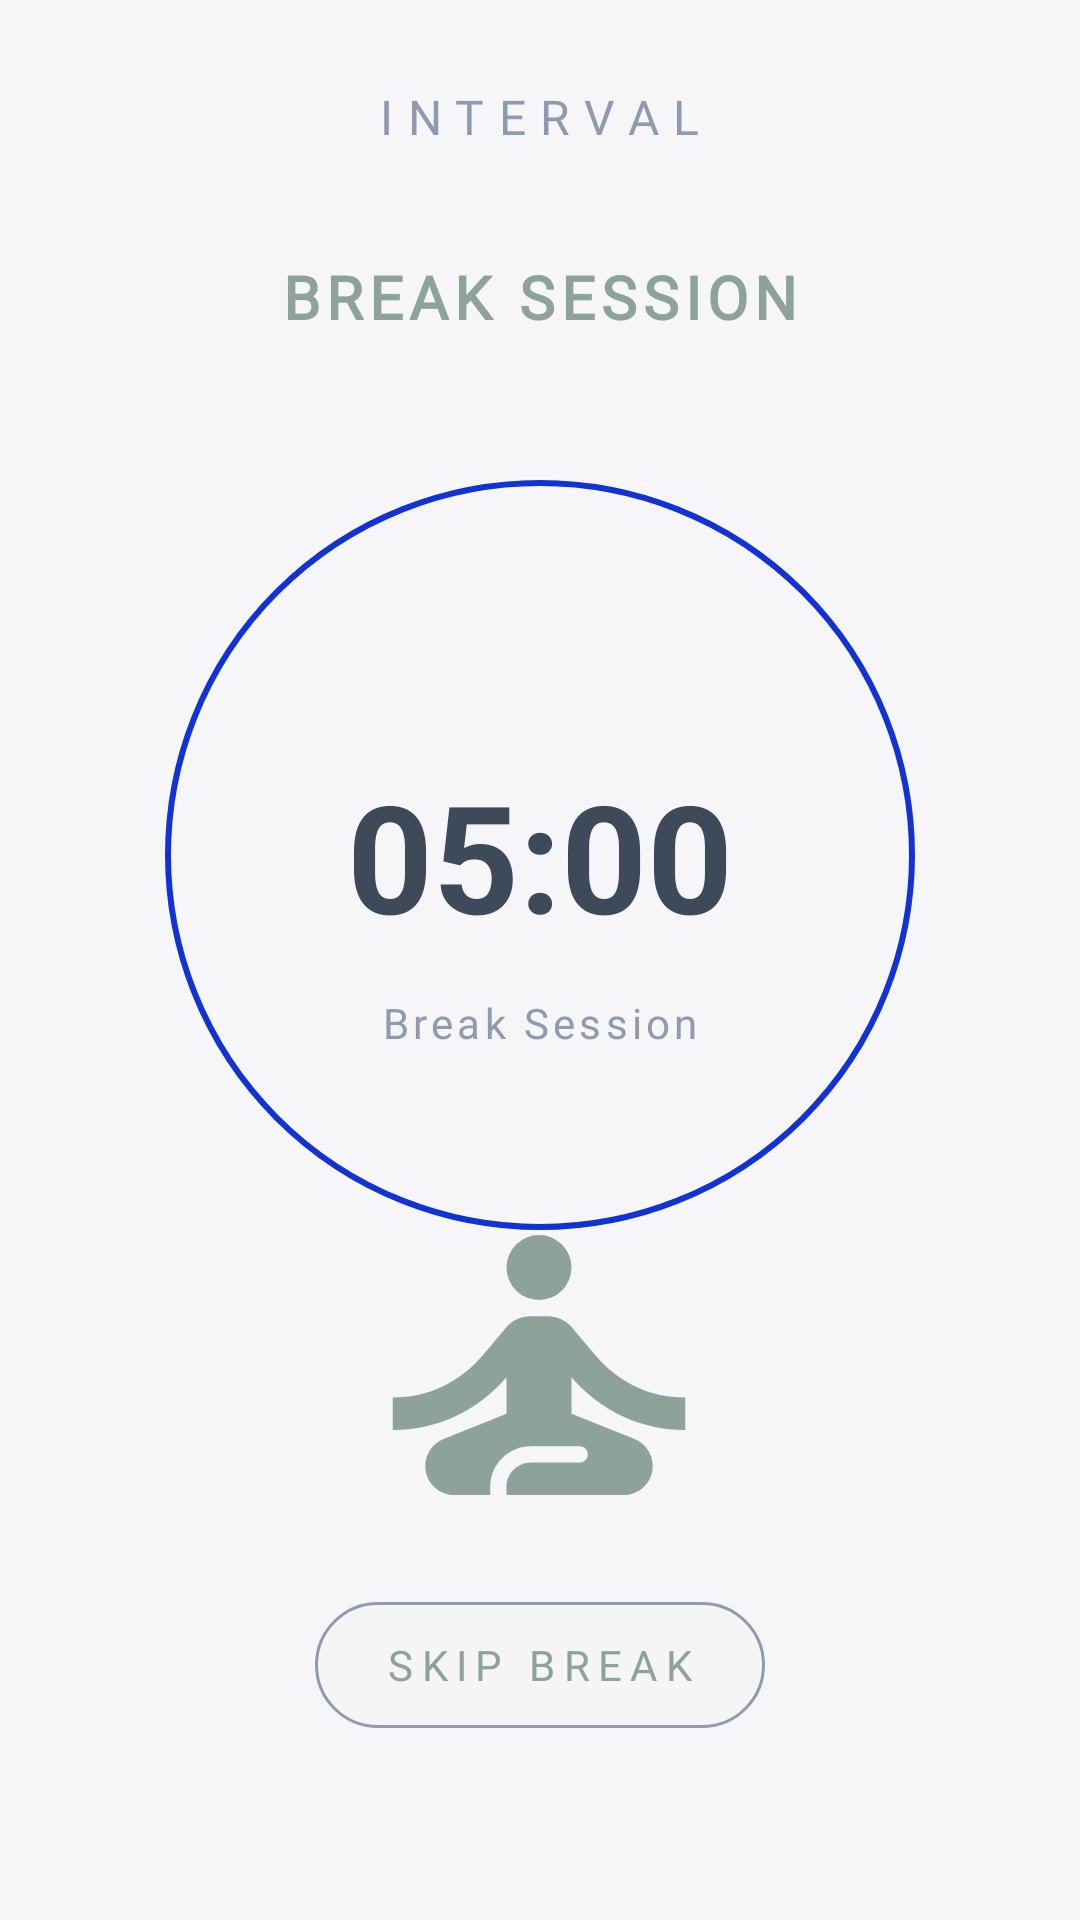

Screen size 1080 x 1920. Icon name, then its center in pixels as (x=x, y=y):
self: (x=539, y=1365)
